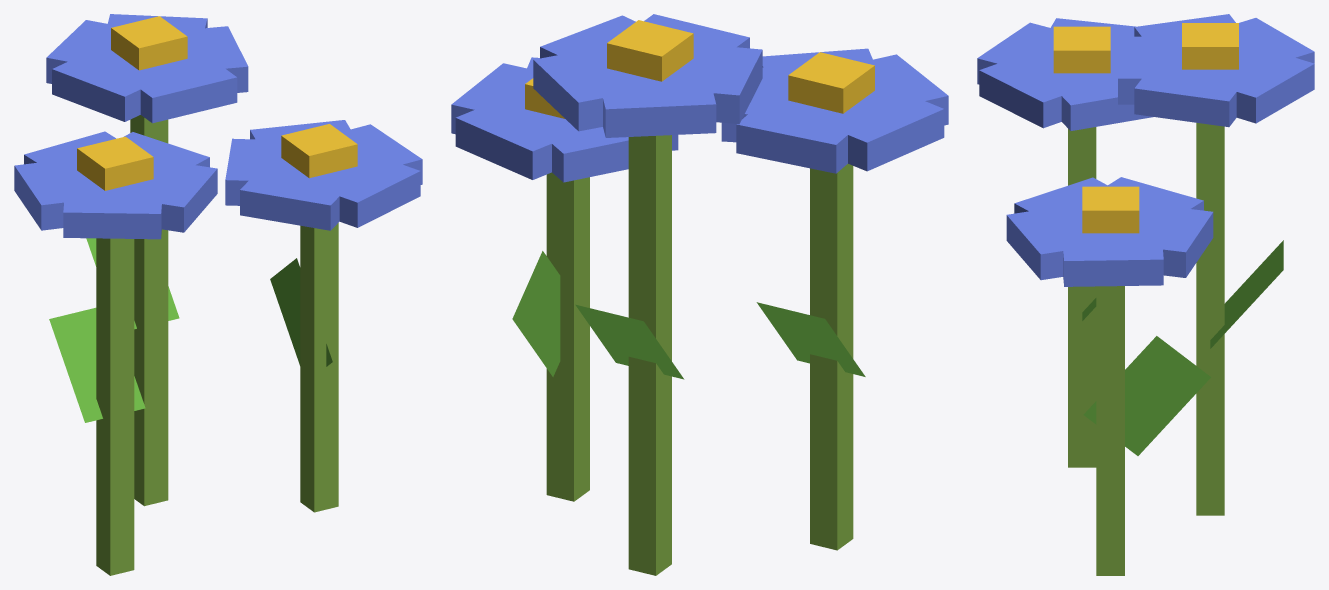
Rendered from flower_blue.obj.
3 renders of one model, left to right at view 1: azimuth 30°, elevation 25°; view 2: azimuth 150°, elevation 25°; view 3: azimuth 270°, elevation 25°, orthographic. The views are drawn at different scales.
Parts seen in each view (by area): view 1: bloom, stem; view 2: stem, bloom; view 3: bloom, stem.
Boxes of the visible parts, x1=… form: bloom: x1=14, y1=14, x2=422, y2=239; stem: x1=49, y1=115, x2=338, y2=575; stem: x1=512, y1=135, x2=865, y2=575; bloom: x1=451, y1=14, x2=948, y2=182; bloom: x1=977, y1=14, x2=1314, y2=286; stem: x1=1068, y1=122, x2=1283, y2=575.
Bounding box in the file's own units: 0.3177 × 0.3675 × 0.2369.
